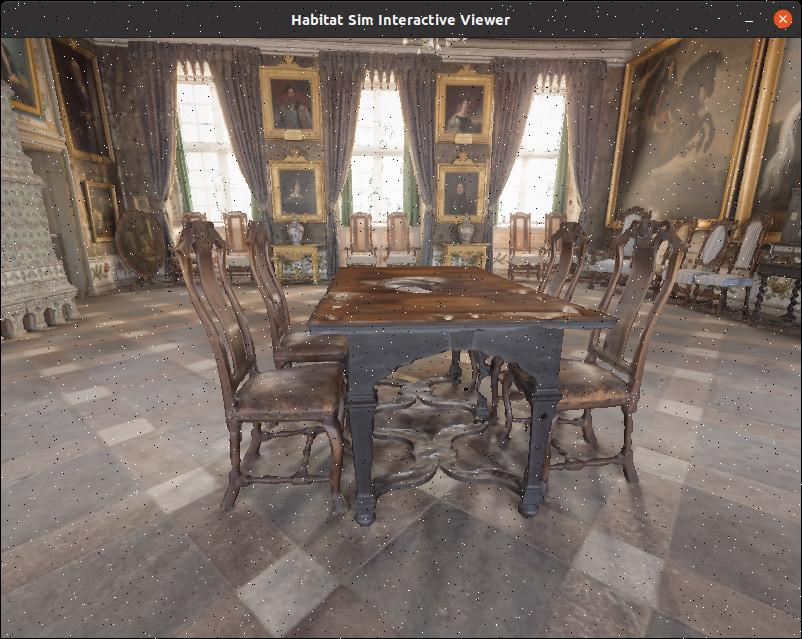chair: (171, 189, 365, 538), (478, 207, 703, 494), (225, 203, 360, 443)
table: (303, 243, 604, 547)
